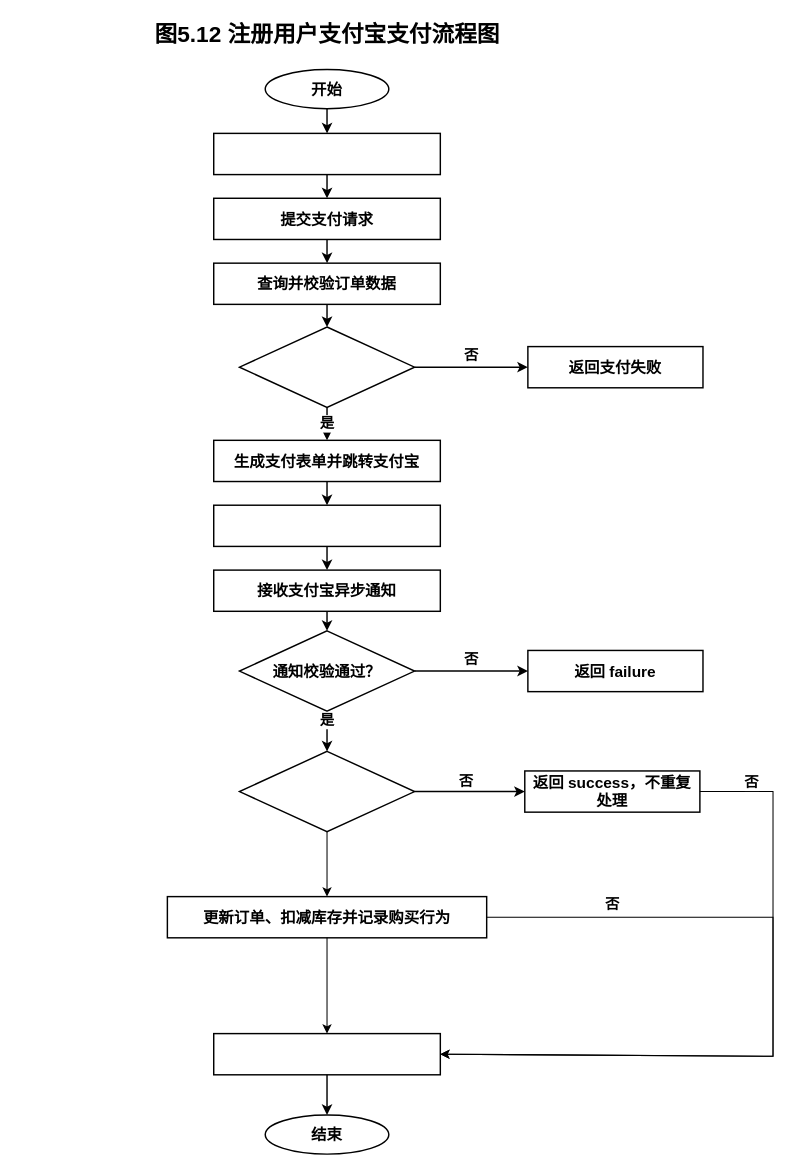
Some shapes in this 799 by 1172 pixel diagram are drawn without their labels. The box of each missing label's shape, as (x1, y1, x2, y2) in pixels:
支付条件有效？: (238, 326, 415, 408)
用户完成支付并返回前端: (212, 504, 441, 547)
订单可更新？: (238, 750, 415, 832)
返回处理结果: (212, 1032, 441, 1075)
进入订单详情并发起支付: (212, 132, 441, 175)
